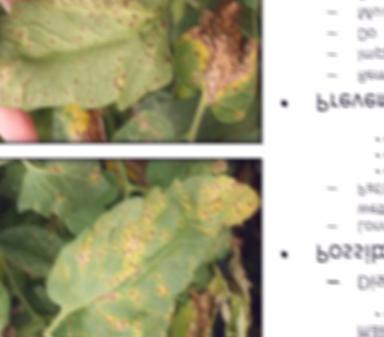Tomato Septoria leaf spot: (44, 175, 261, 337), (0, 0, 181, 114), (165, 0, 259, 135)
